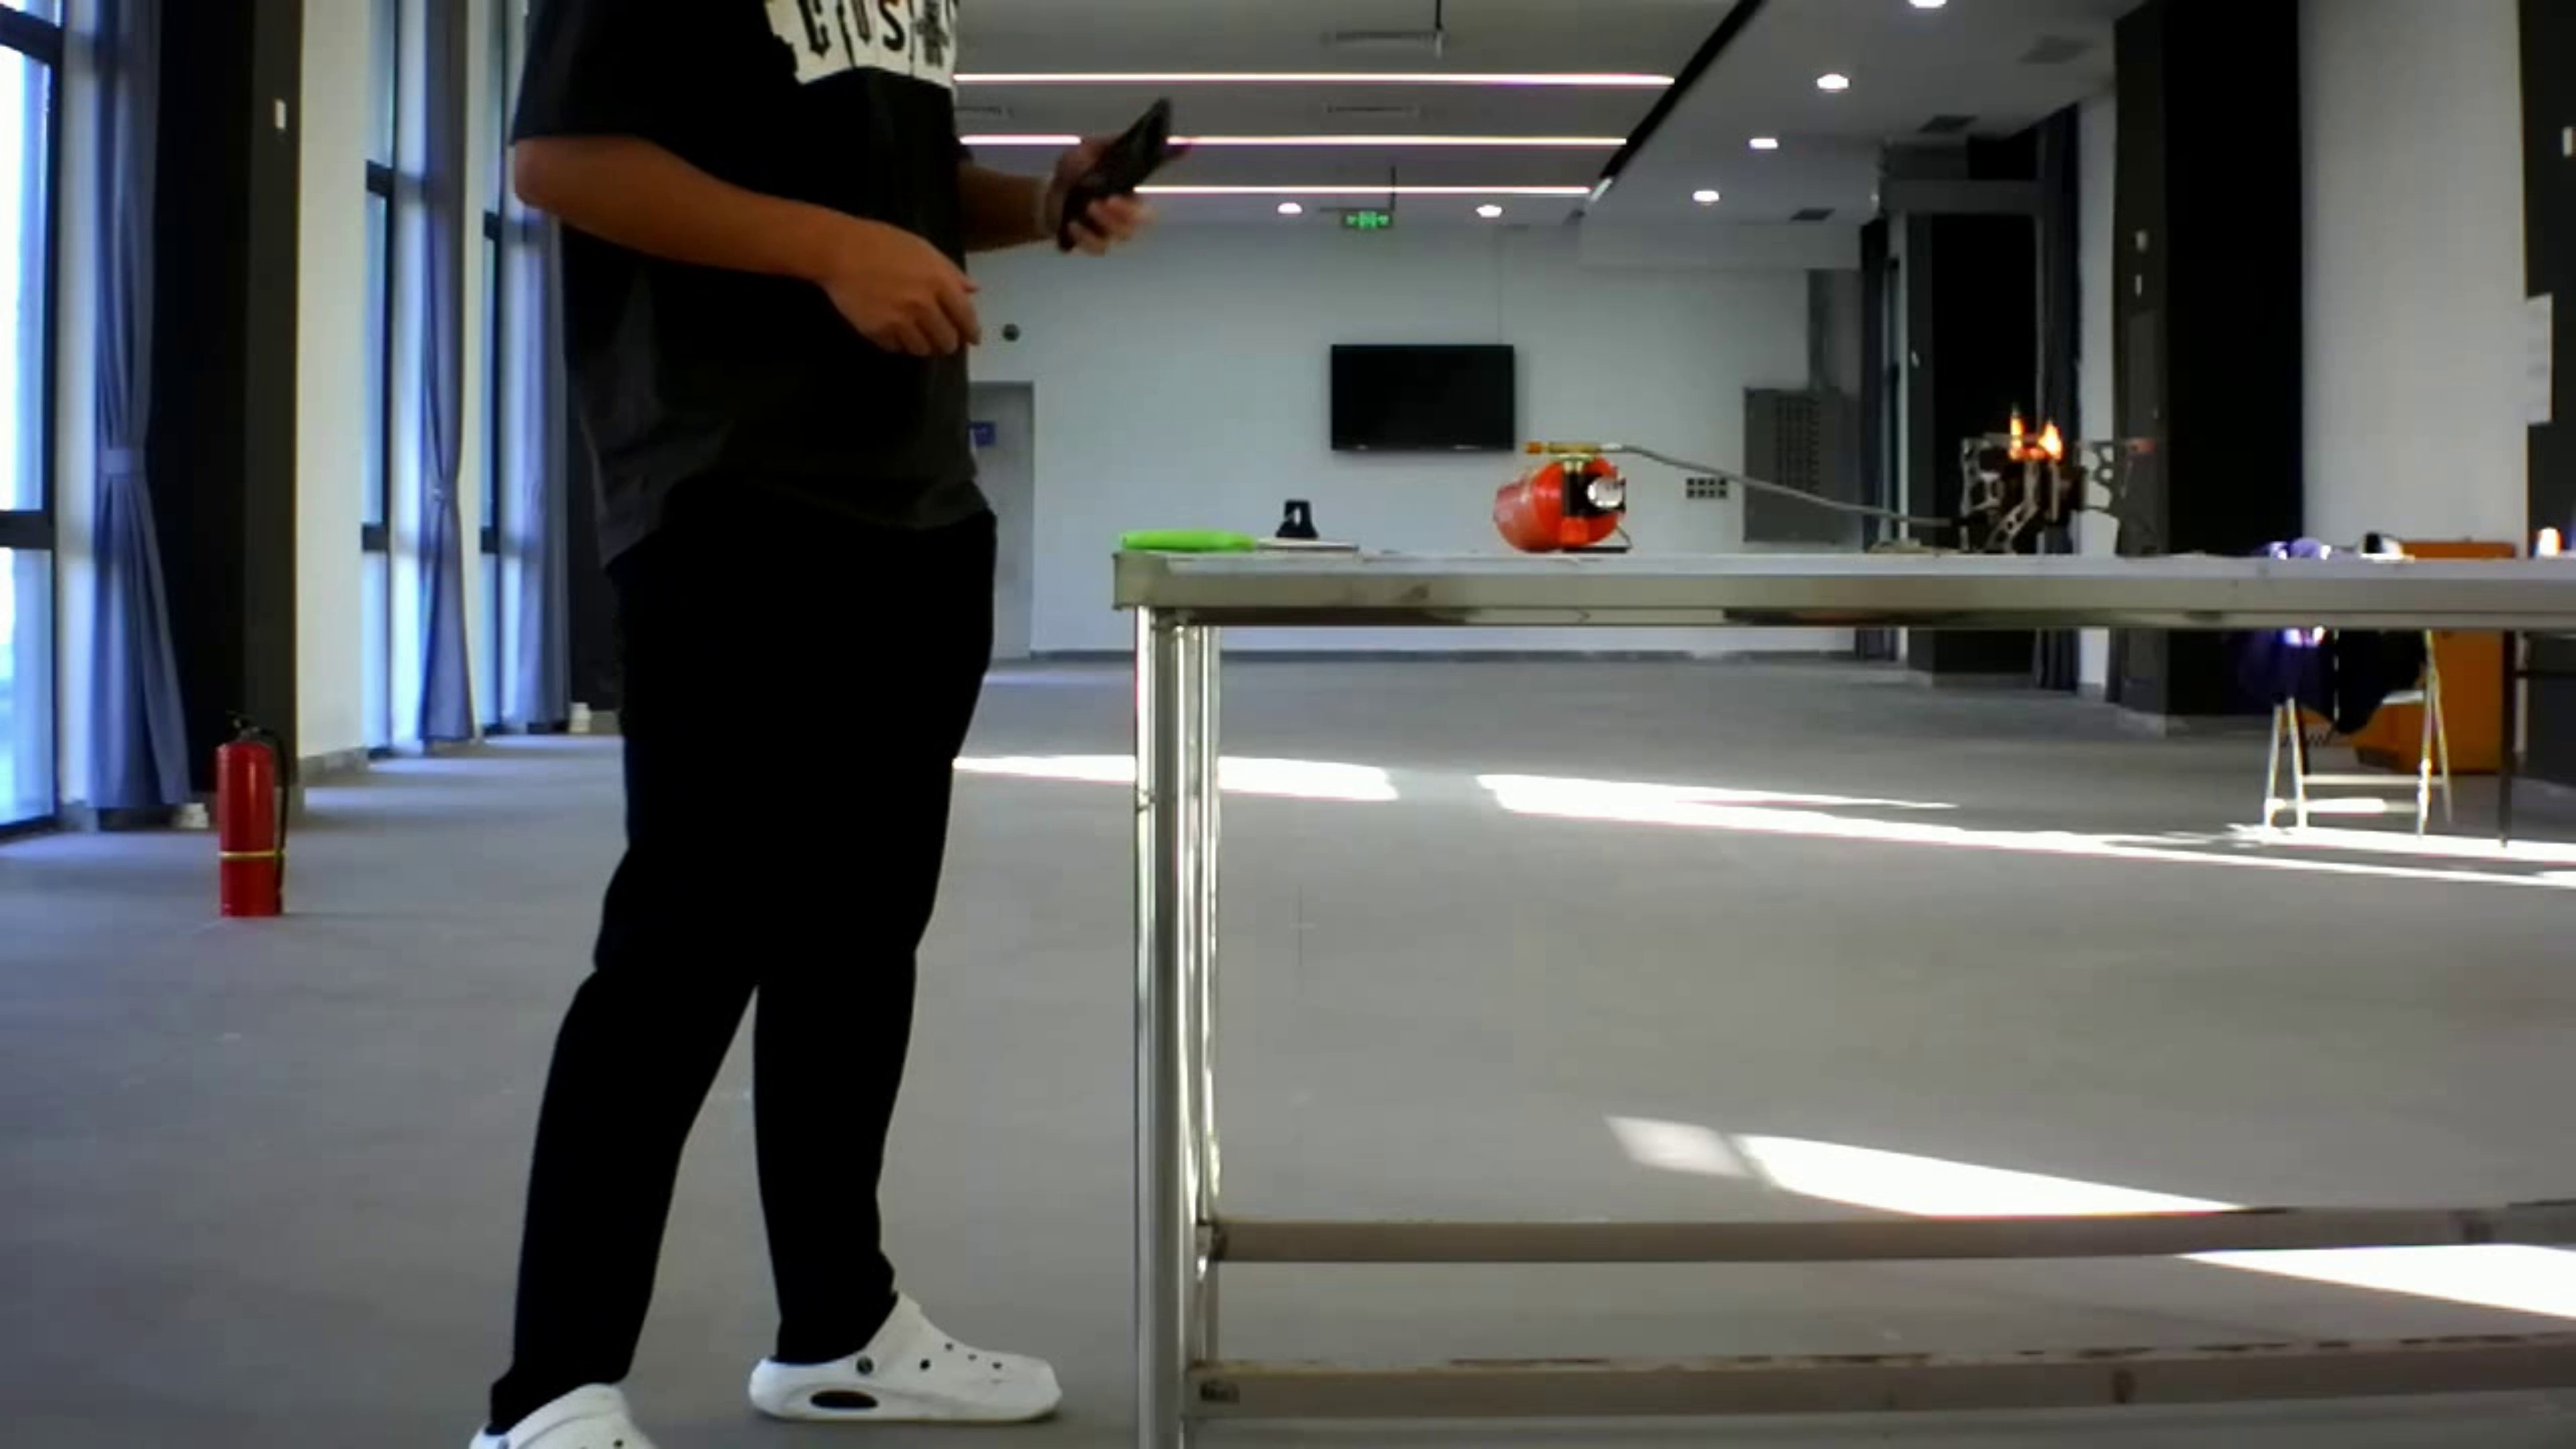Fire: (1992, 396, 2077, 474)
